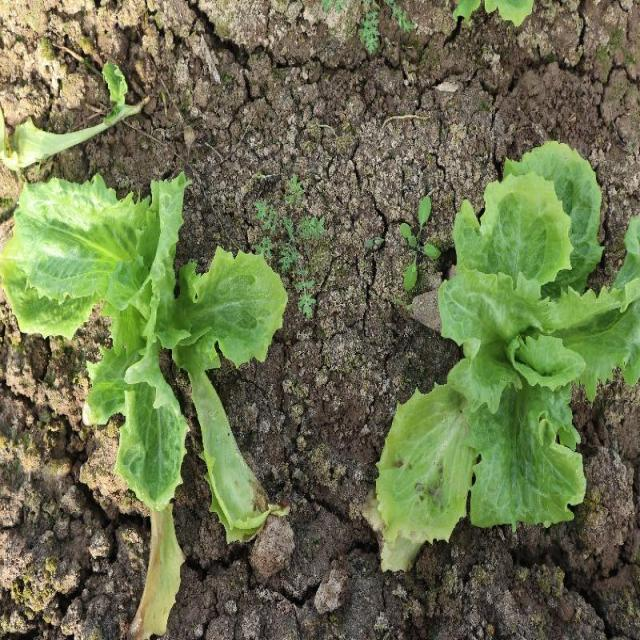crop: (3, 186, 285, 513), (377, 143, 601, 548)
